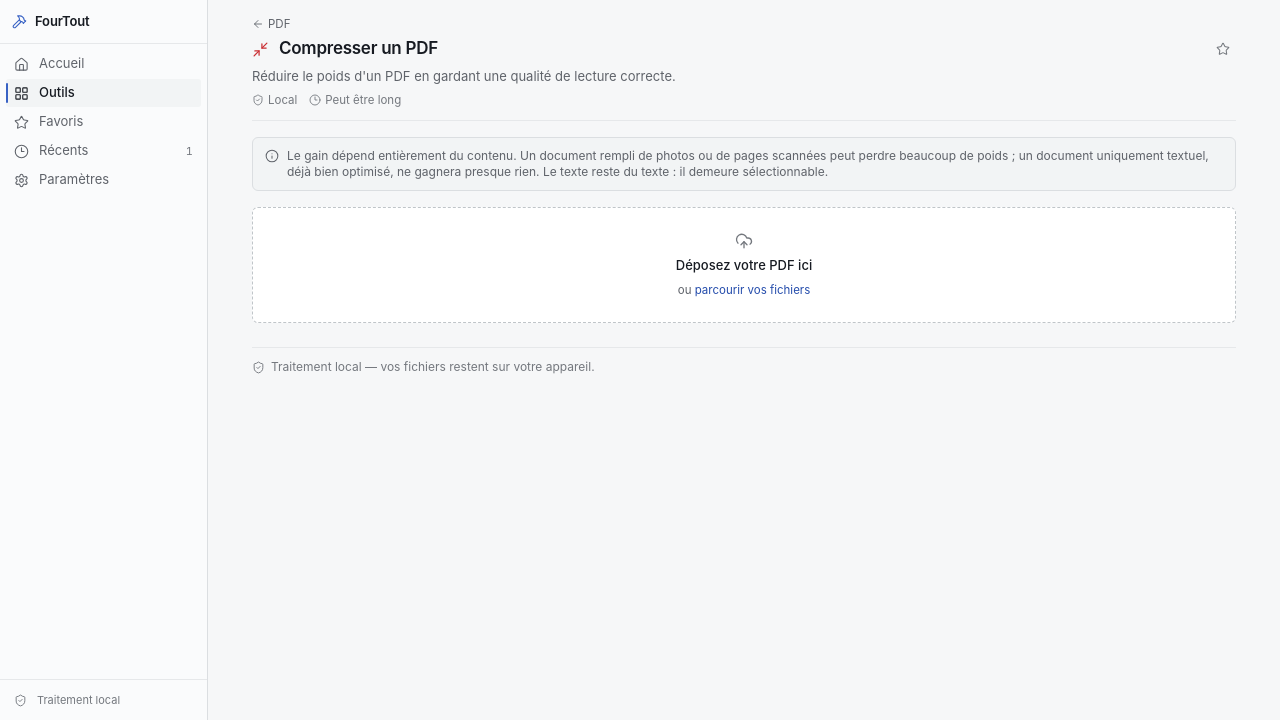
Test: favoris et récents dans l'application › ajoute un favori depuis la page d'un outil et le retrouve dans Favoris
Click the button named "Ajouter aux favoris" at x=1223, y=49, box [1210,36,1236,62]
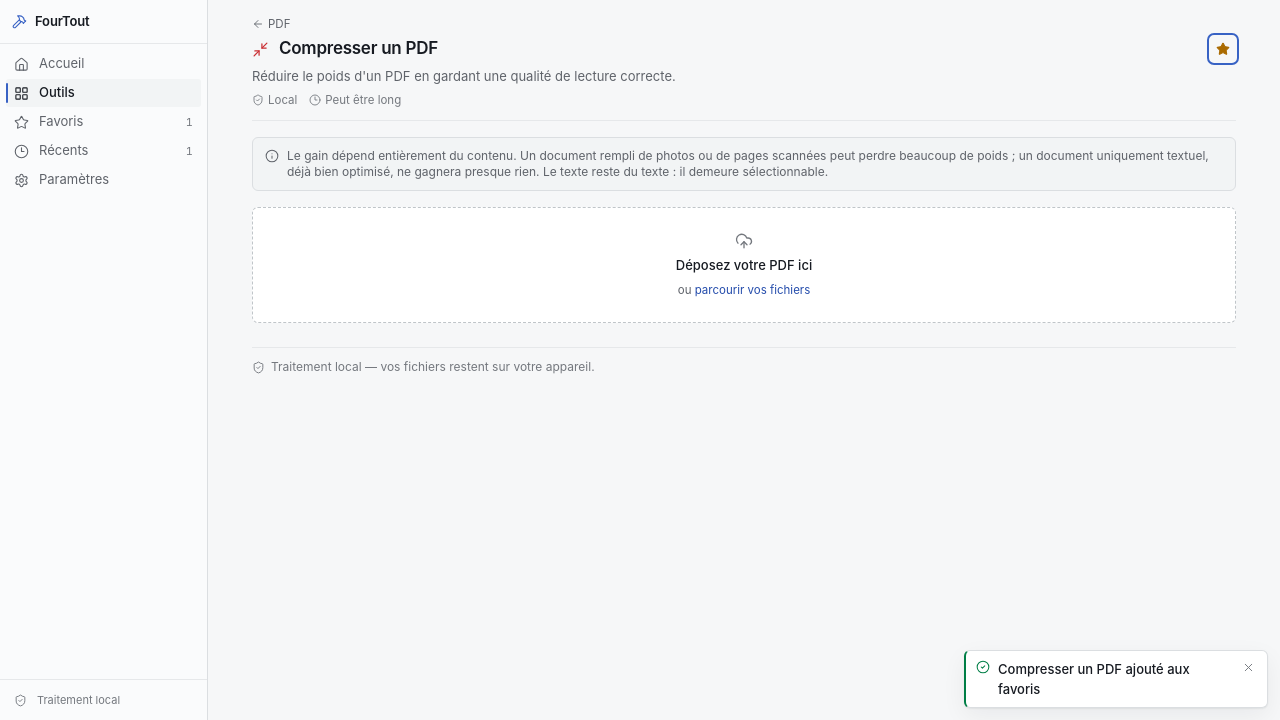
Click the link "Favoris 1" at x=61, y=121, box [14,113,193,130]
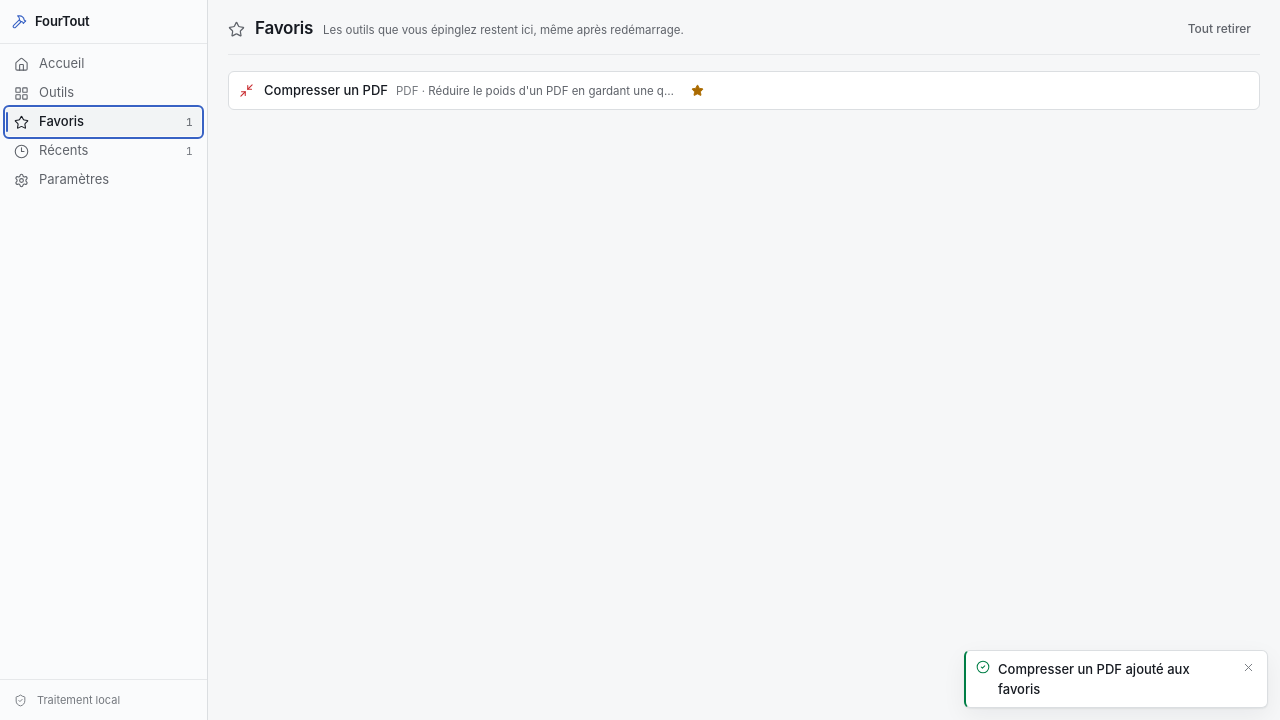
expect the link with test id "tool-row-pdf-compress" is shown: met, box [229,72,744,109]
